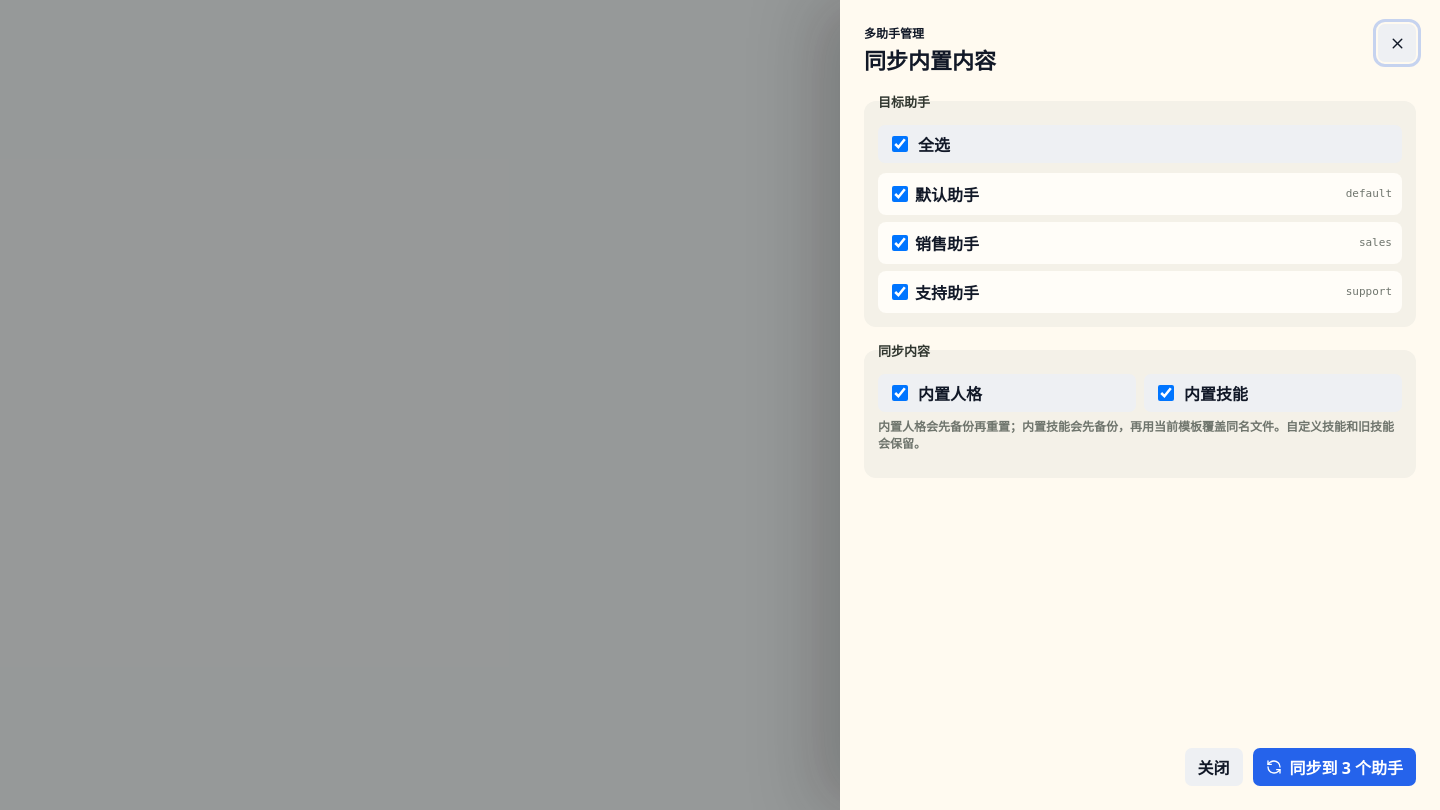
ProfileBatchTools › synchronizes both bundled content types to every profile by default
Click the button "同步到 3 个助手".
click(1334, 767)  # box [1252, 748, 1416, 786]
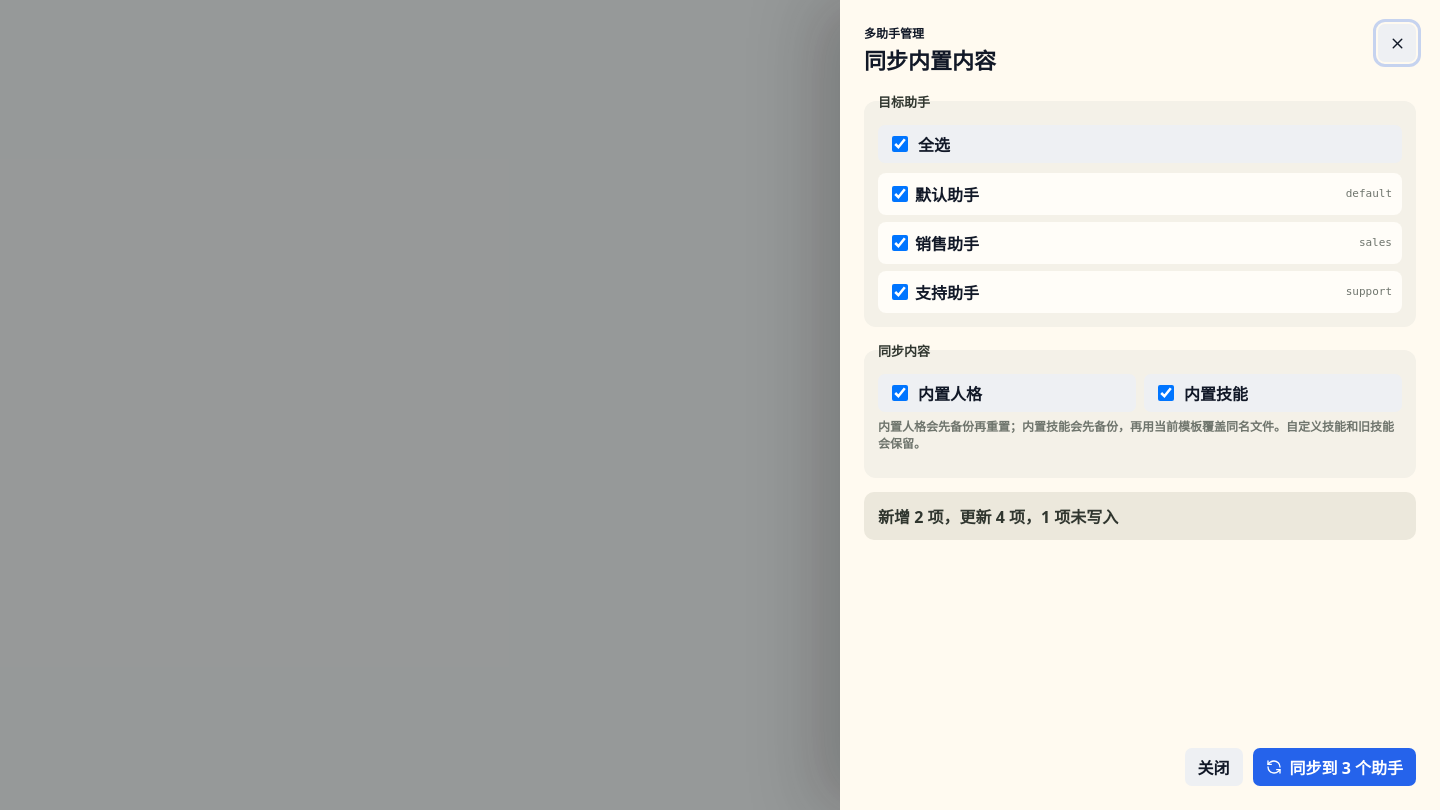
Check: the text "新增 2 项，更新 4 项，1 项未写入" is shown, box [878, 506, 1118, 528]
